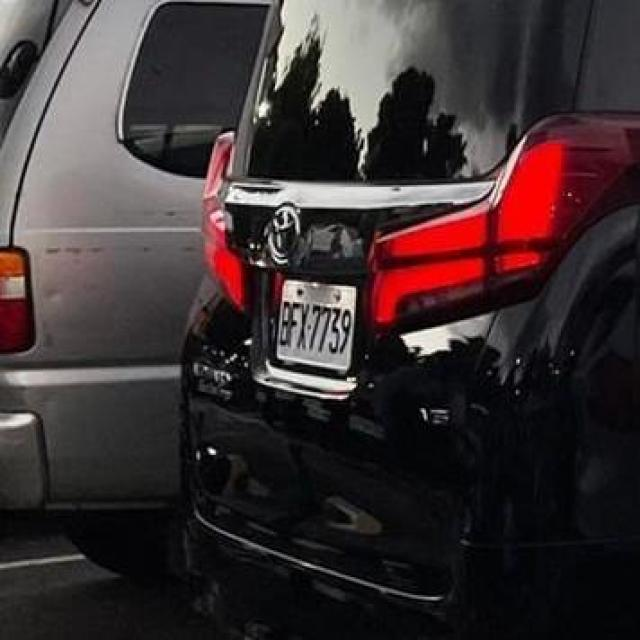W: (266, 268, 369, 377)
